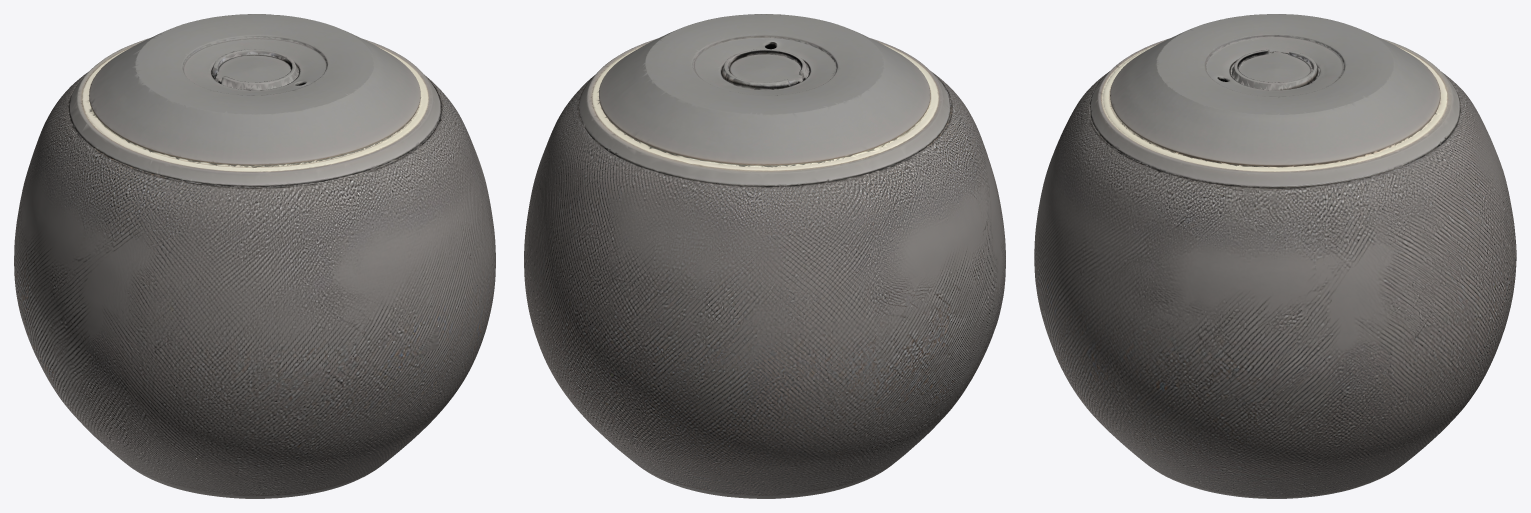
The picture shows the model from 3 angles, left to right: view 1: azimuth 30°, elevation 25°; view 2: azimuth 150°, elevation 25°; view 3: azimuth 270°, elevation 25°; orthographic projection.
Parts seen in each view (by area): view 1: tripo_node_3d119c5d-6c91-4e89-988f-e0b94680c337; view 2: tripo_node_3d119c5d-6c91-4e89-988f-e0b94680c337; view 3: tripo_node_3d119c5d-6c91-4e89-988f-e0b94680c337.
Part boxes in pixels (box(x1,y1,x2,y2)): tripo_node_3d119c5d-6c91-4e89-988f-e0b94680c337: box(14, 14, 495, 498); tripo_node_3d119c5d-6c91-4e89-988f-e0b94680c337: box(524, 14, 1005, 498); tripo_node_3d119c5d-6c91-4e89-988f-e0b94680c337: box(1034, 14, 1516, 498).
Size of the model in its own units: 0.9777 by 0.8498 by 0.9799.
1 material, 1 textured.
